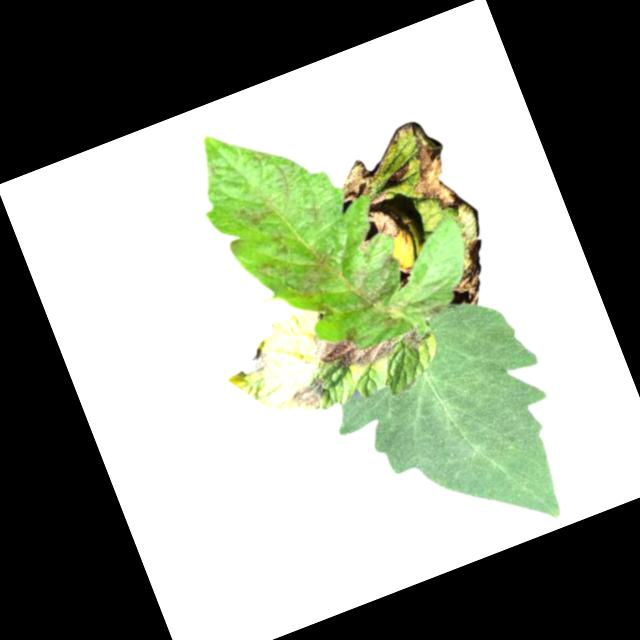Late_blight: (386, 111, 466, 220), (343, 243, 436, 336), (308, 308, 402, 382), (432, 237, 504, 314), (286, 243, 349, 305), (360, 190, 413, 251), (331, 155, 382, 209), (229, 345, 275, 385), (286, 376, 331, 415), (232, 196, 278, 234), (398, 323, 430, 355), (382, 160, 412, 187), (356, 237, 375, 254)
healthy: (310, 283, 594, 580)
